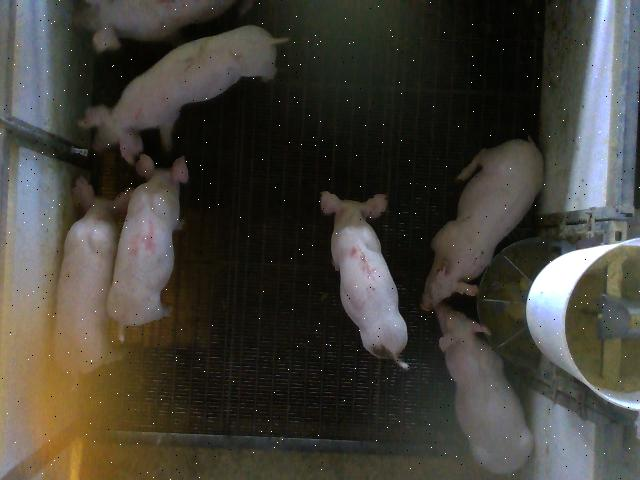pig-3: (76, 0, 236, 52)
pig-4: (108, 154, 189, 341)
pig-5: (321, 191, 409, 369)
